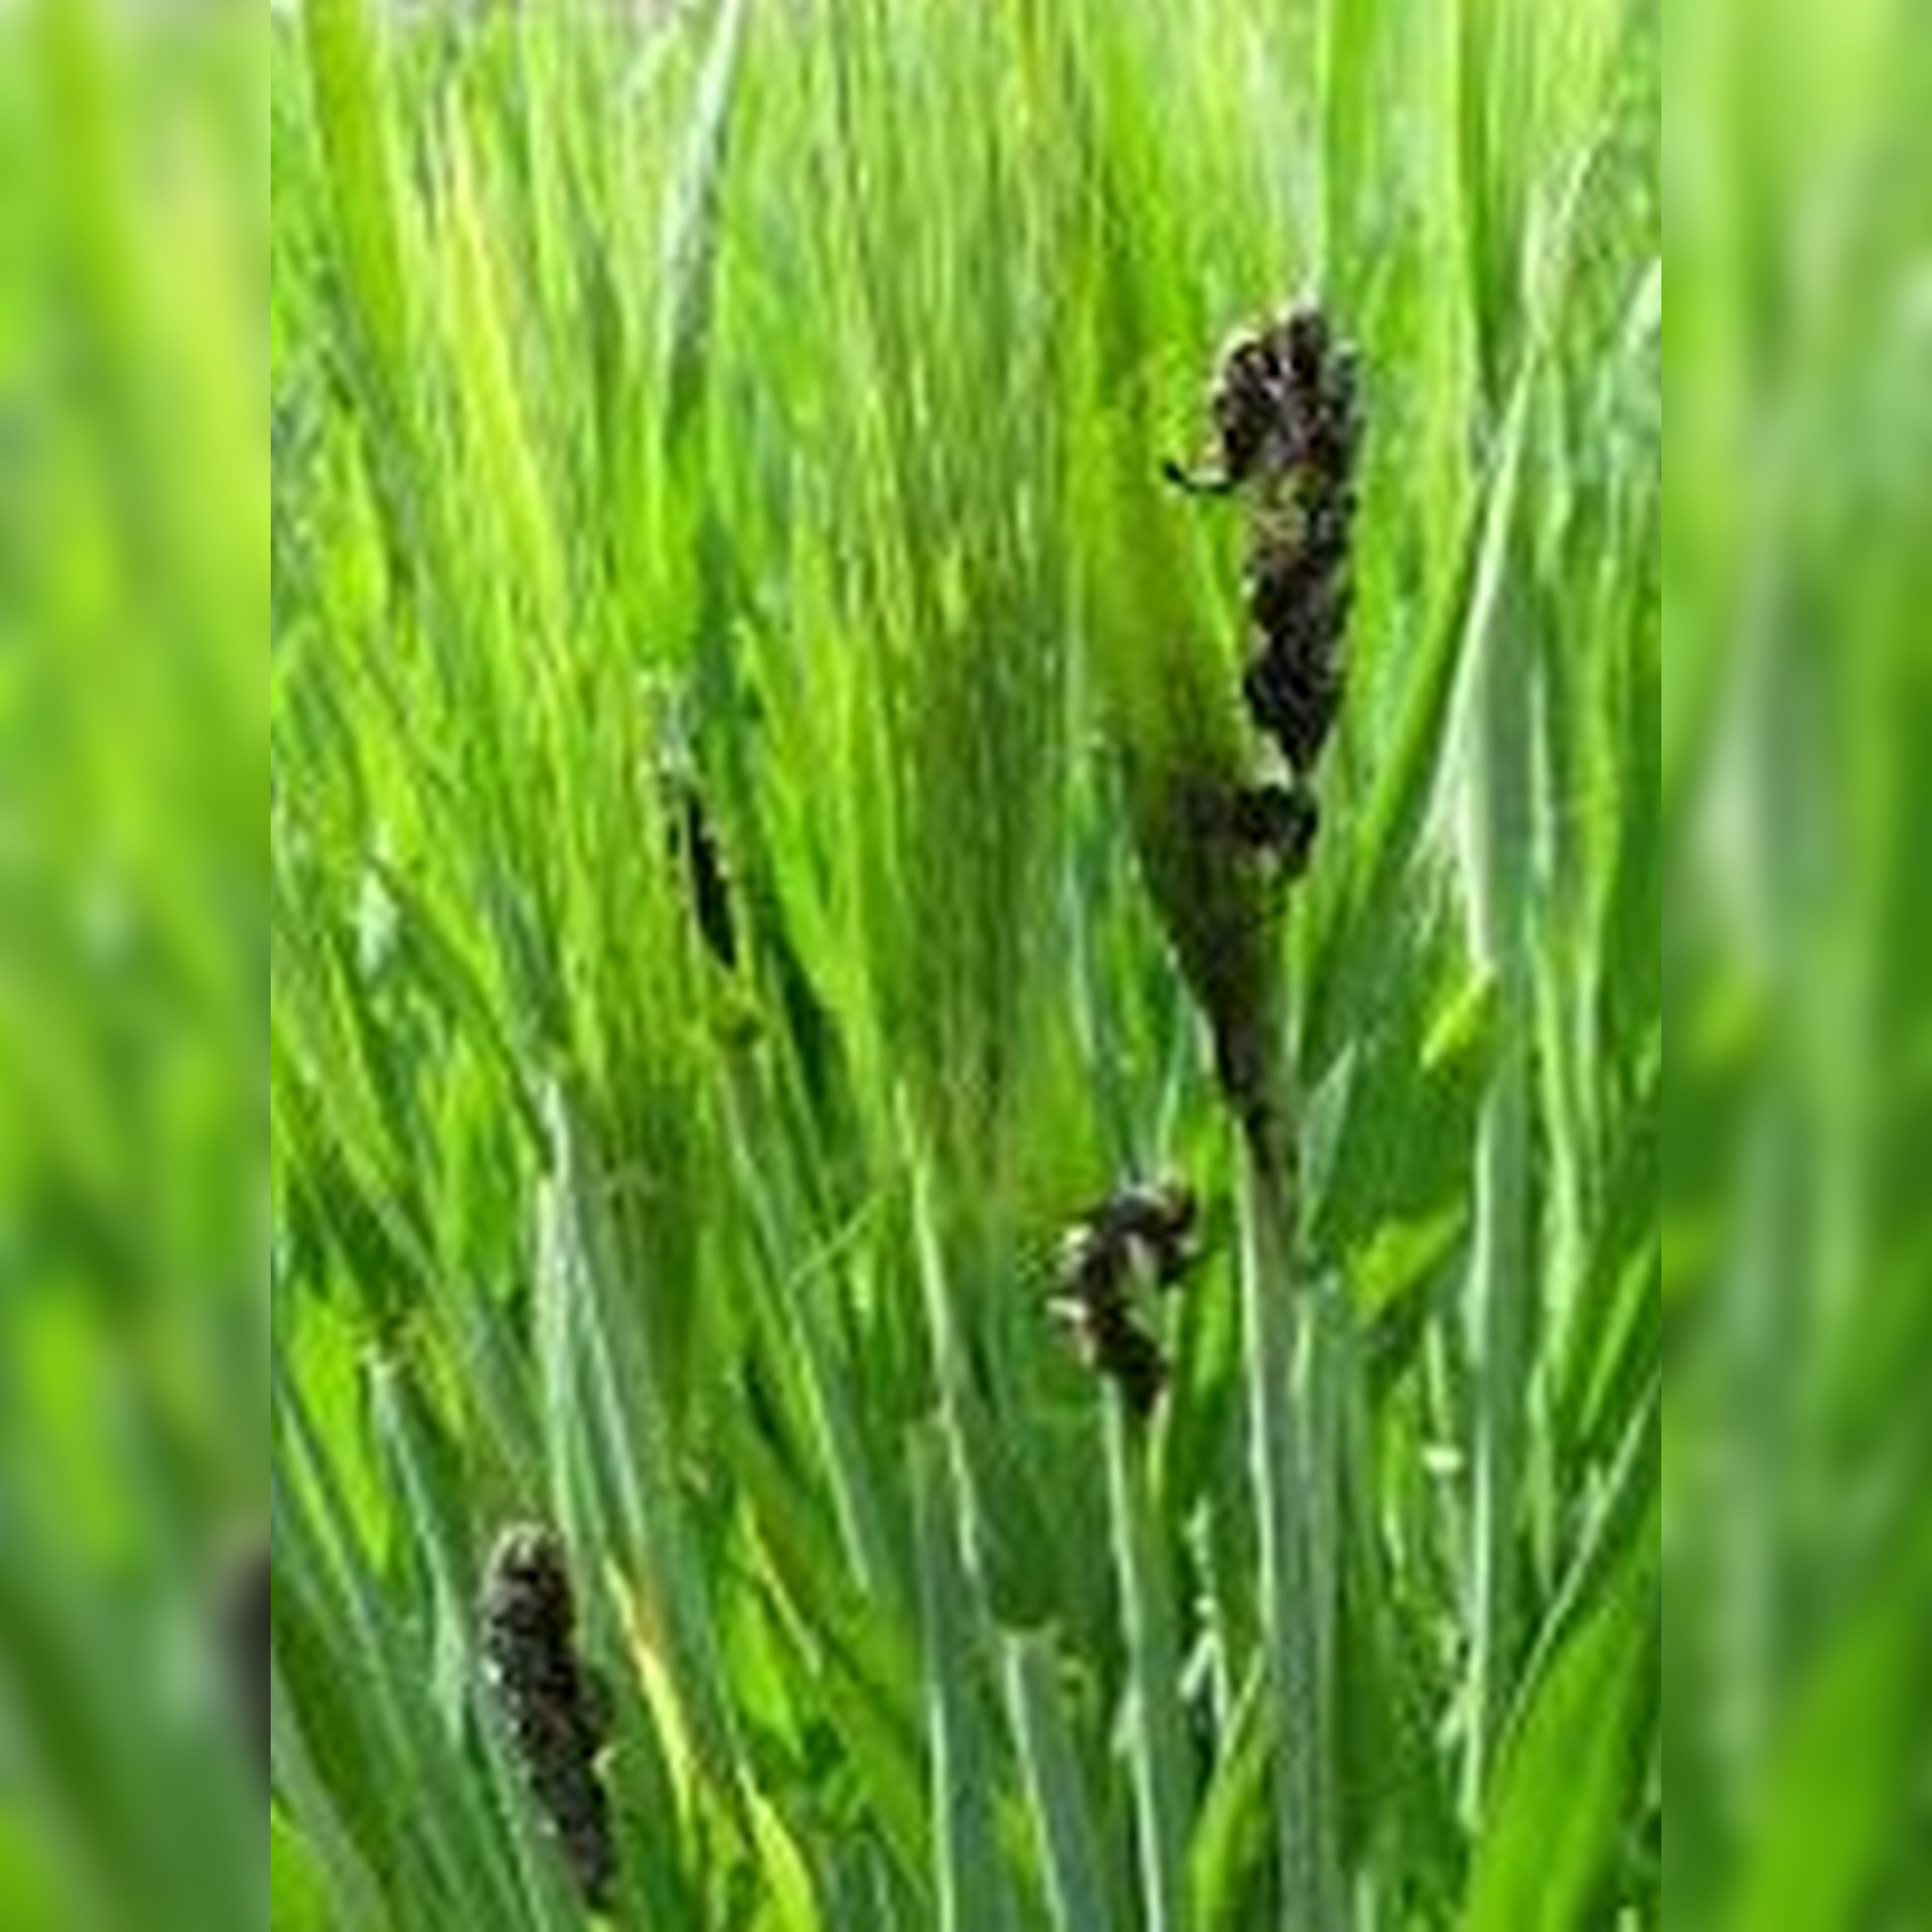Wheat Loose Smut: (1154, 265, 1399, 830), (426, 1493, 662, 1851)
